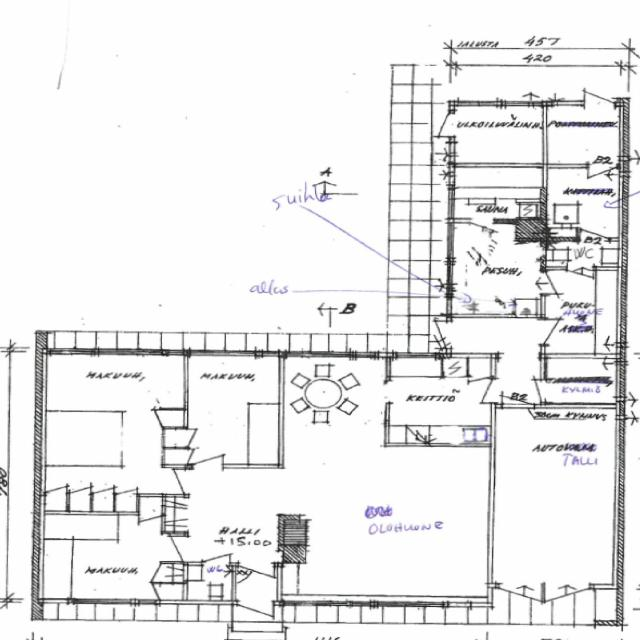door: (543, 582, 590, 626), (497, 582, 543, 626), (238, 598, 273, 632), (239, 561, 274, 594), (414, 320, 454, 348), (502, 377, 534, 408), (192, 439, 224, 468), (456, 378, 494, 402), (542, 320, 577, 344), (514, 378, 548, 402), (586, 77, 614, 106), (579, 214, 608, 242), (542, 270, 575, 294), (155, 536, 188, 560), (566, 263, 594, 290), (202, 538, 230, 565), (421, 114, 454, 136), (588, 162, 614, 188), (468, 218, 494, 244), (158, 470, 188, 492)
